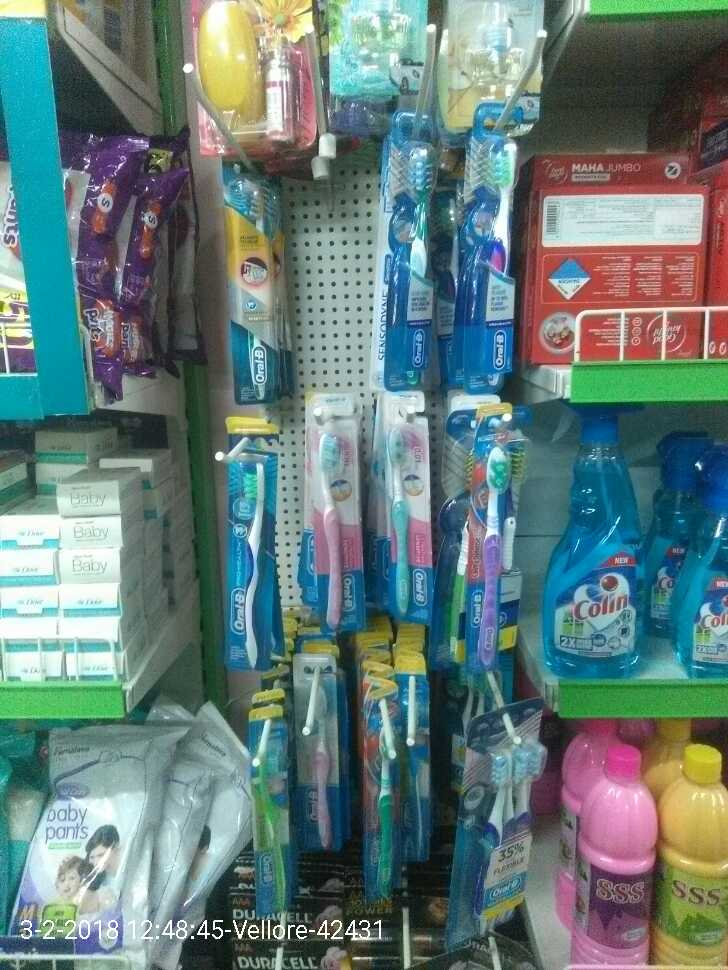oralb: (456, 437, 542, 675), (383, 141, 445, 387), (452, 140, 510, 380), (213, 446, 272, 658), (374, 408, 429, 614), (307, 437, 350, 629)
